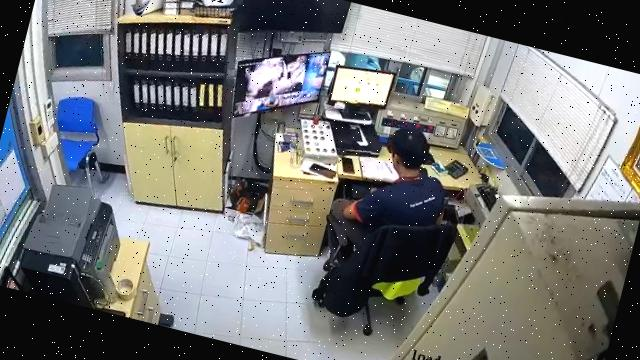Head: (382, 126, 437, 180)
People: (332, 129, 446, 247)
Phone: (309, 163, 337, 179), (340, 156, 355, 175)
